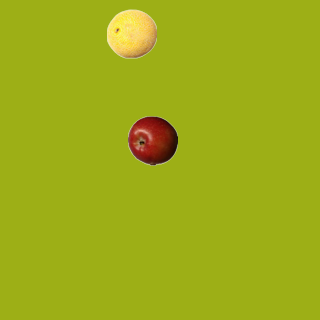Apple Braeburn: (127, 115, 177, 165)
Cantaloupe 1: (106, 8, 156, 58)
